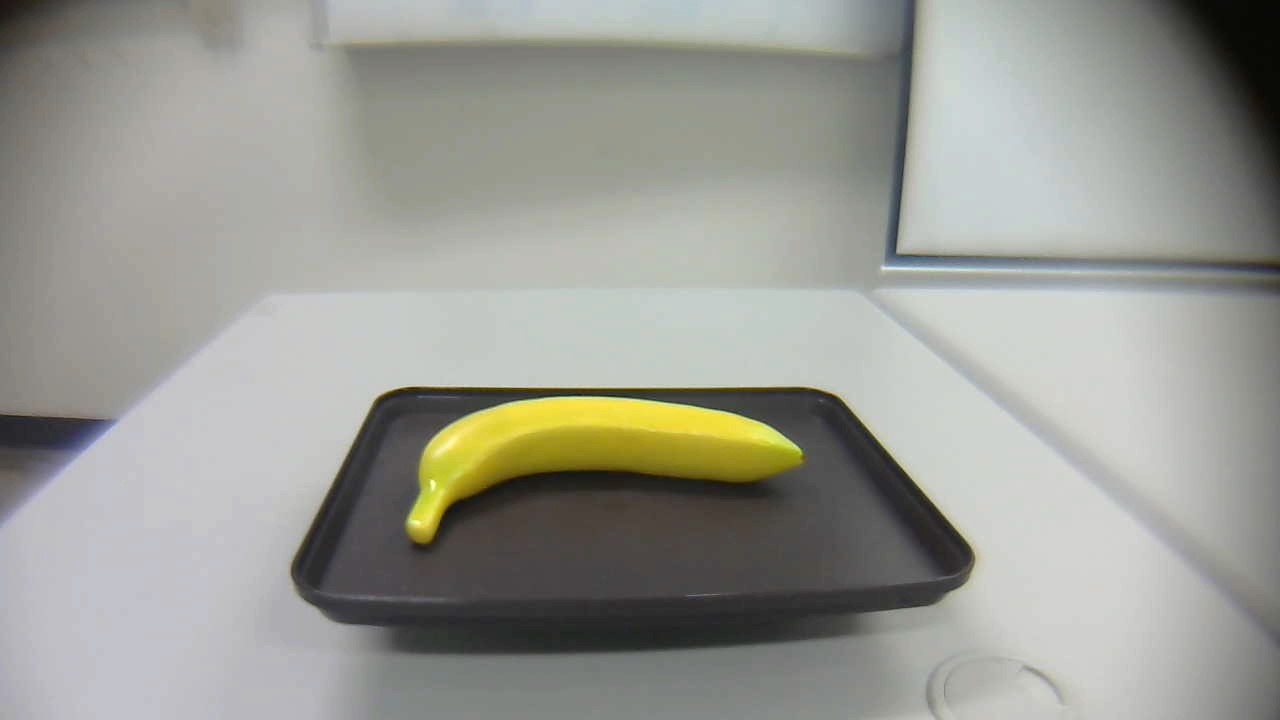banana: (402, 392, 809, 548)
